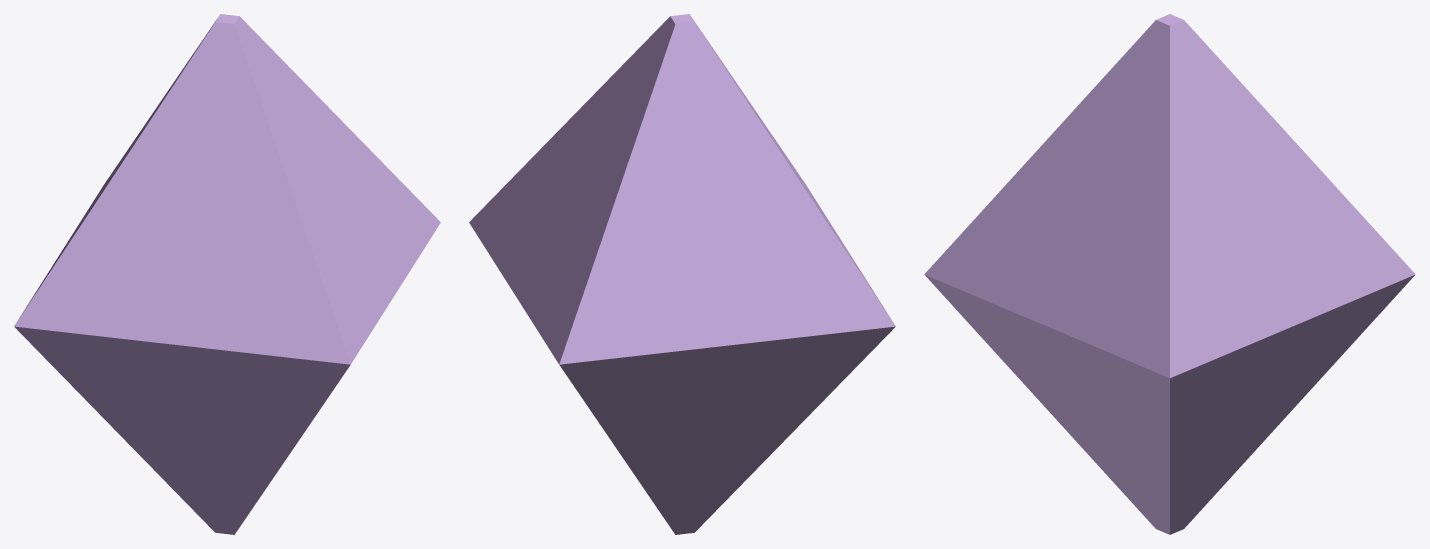
Rendered from simbolo_4_rombo.glb.
3 views of the same model, side by side, from view 1: azimuth 30°, elevation 25°; view 2: azimuth 150°, elevation 25°; view 3: azimuth 270°, elevation 25° (orthographic).
Visible parts, largest first — view 1: simbolo_4_rombo; view 2: simbolo_4_rombo; view 3: simbolo_4_rombo.
Part boxes in pixels (x1=…): simbolo_4_rombo: x1=14, y1=14, x2=440, y2=534; simbolo_4_rombo: x1=469, y1=14, x2=895, y2=534; simbolo_4_rombo: x1=924, y1=14, x2=1415, y2=534.
Size of the model in its own units: 0.7 by 0.8 by 0.7.
